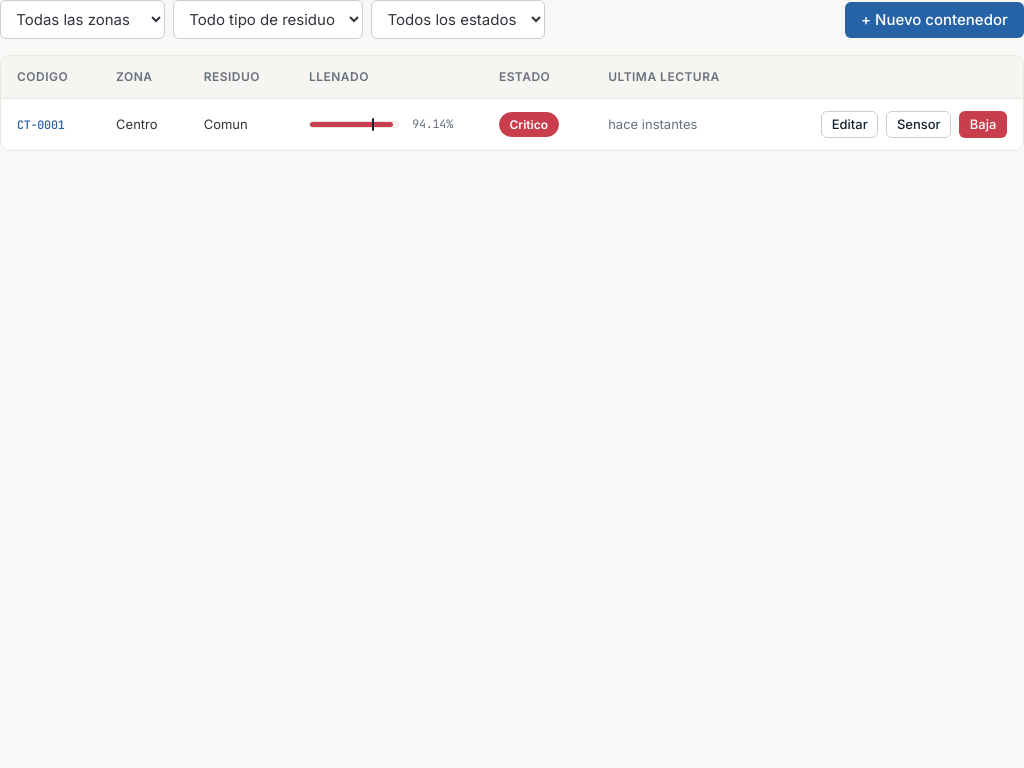
Scenario: ABM de contenedores › desarma el 400 y pone cada mensaje debajo de su campo
The image size is (1024, 768).
Step 1. Click the button "+ Nuevo contenedor" → (934, 20), box [845,2,1023,38]
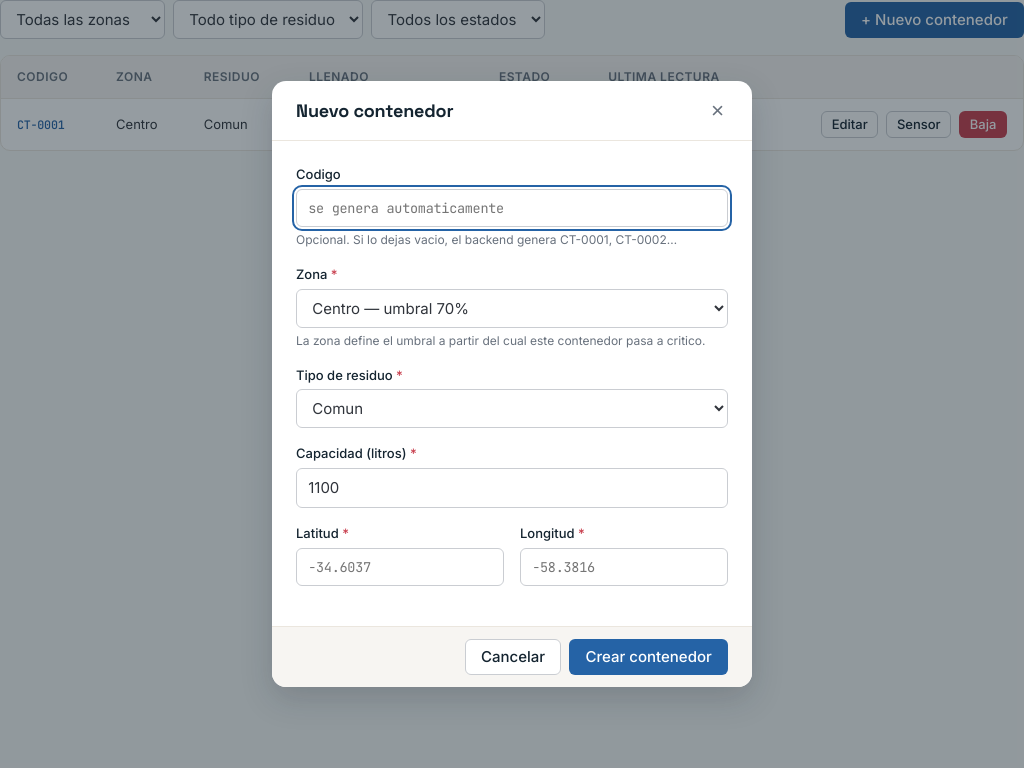
Step 2. Click the button "Crear contenedor" → (649, 657), box [569,639,728,675]
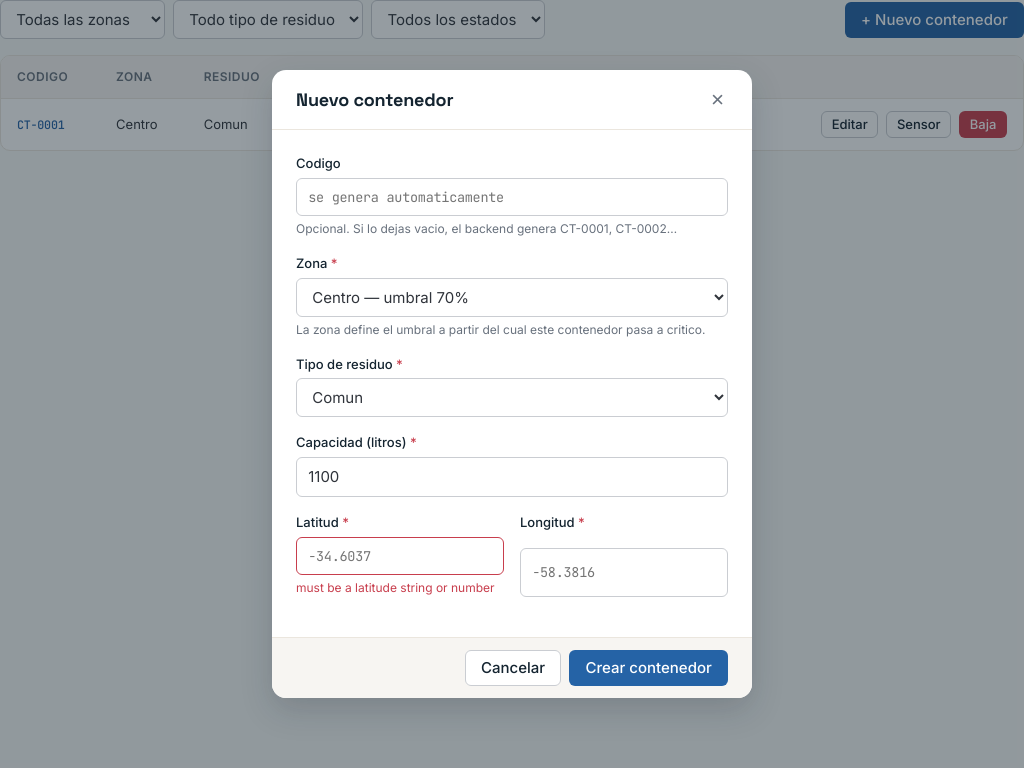
Expected: the text "must be a latitude string or number" is shown, [296,579,504,597]
